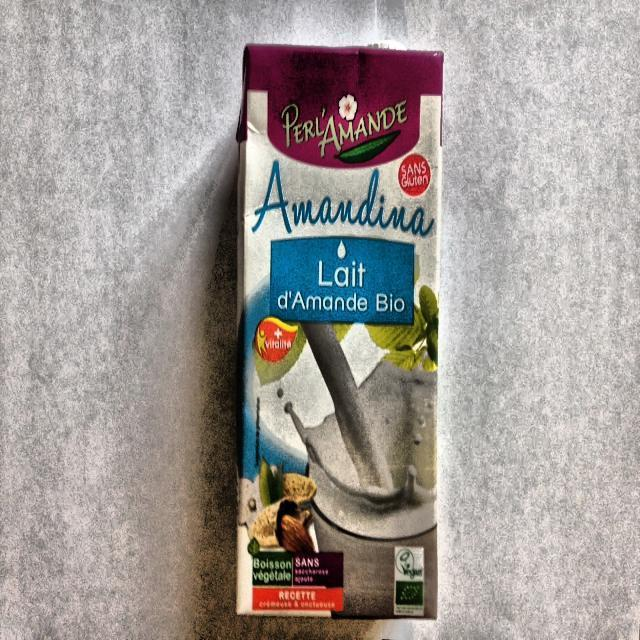cardboard: (234, 42, 443, 620)
